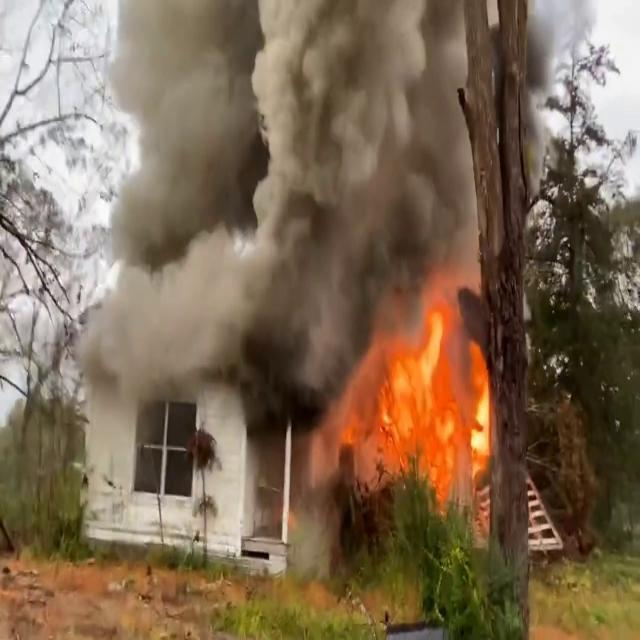Fire: (346, 297, 496, 504)
Smoke: (72, 0, 538, 358)
